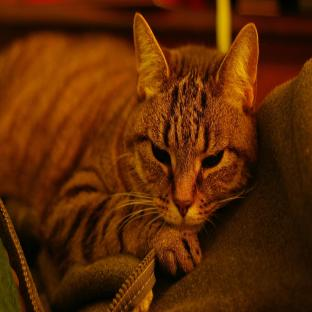Animal: (0, 13, 258, 274)
